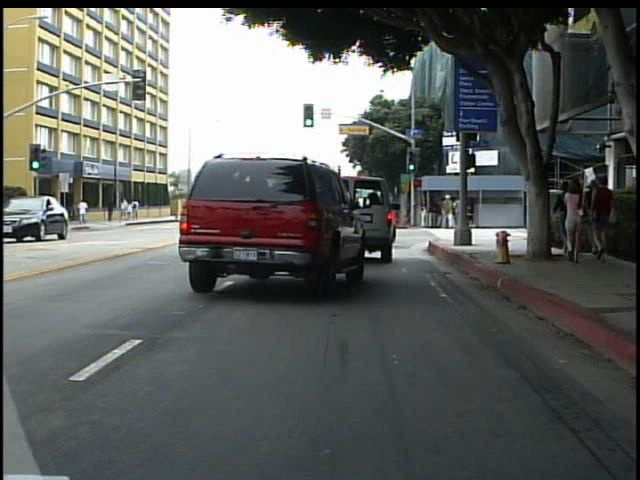person: (588, 176, 619, 268), (557, 179, 588, 270), (439, 190, 456, 233), (76, 197, 92, 226)
